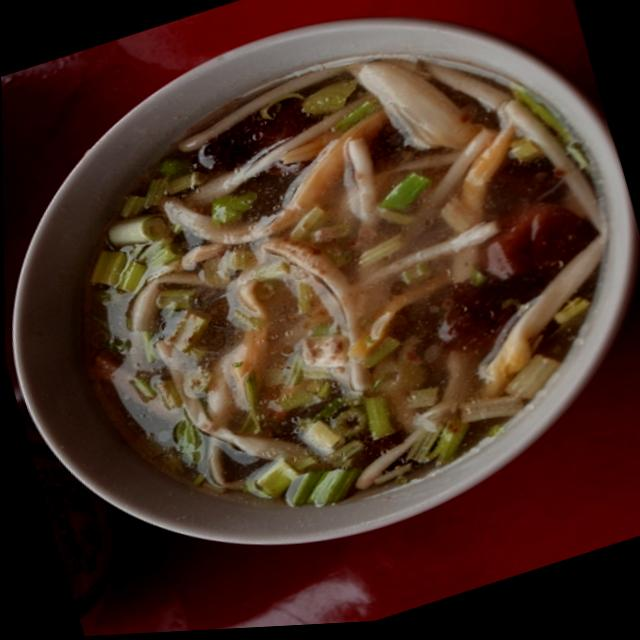面条主食: (0, 0, 640, 593)
